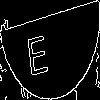E: (25, 25, 49, 77)
